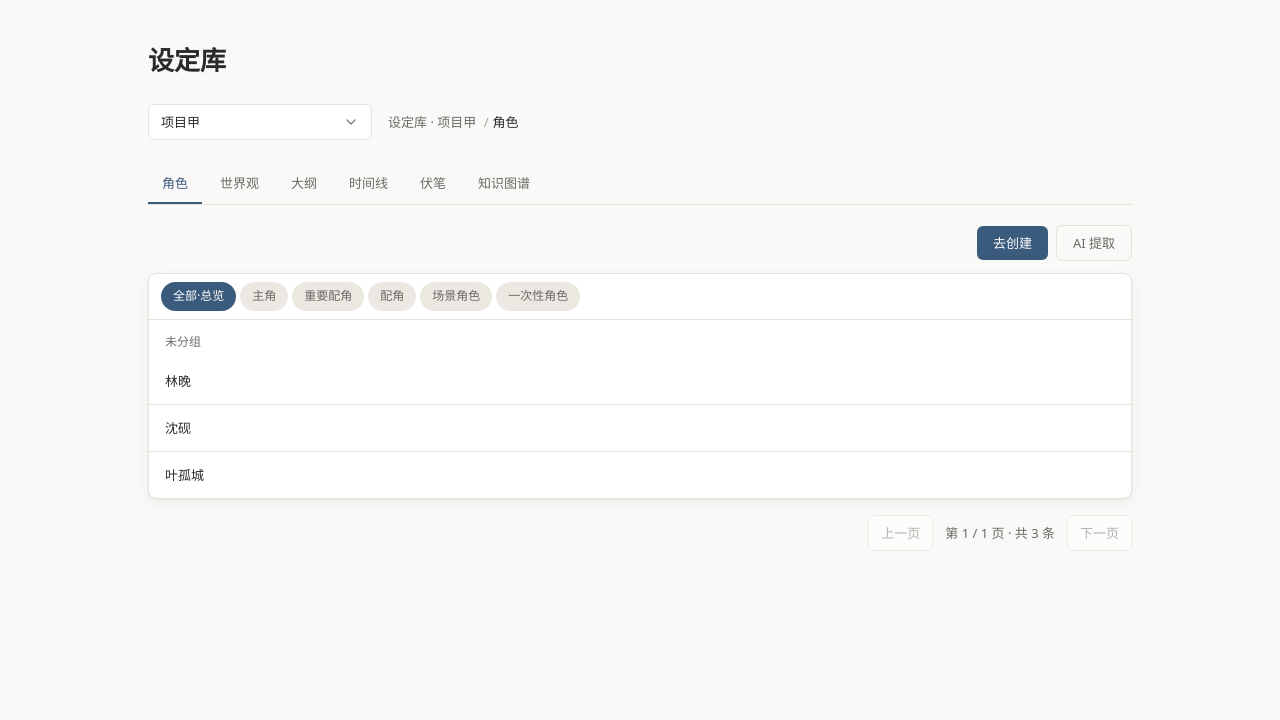
it: #650 角色关系 GUI（T1 关系区契约，角色详情面板内） › 打开详情面板（点角色名）→ 面板渲染（标题=角色名 + 关闭按钮）→ GET /characters/c1/relations 列表含 to_name/relation_type
Expected: the element with test id "library-list" is shown, top-left (148, 273), bottom-right (1132, 499)
Click the button "林晚": (178, 381) top-left (165, 370), bottom-right (1047, 392)
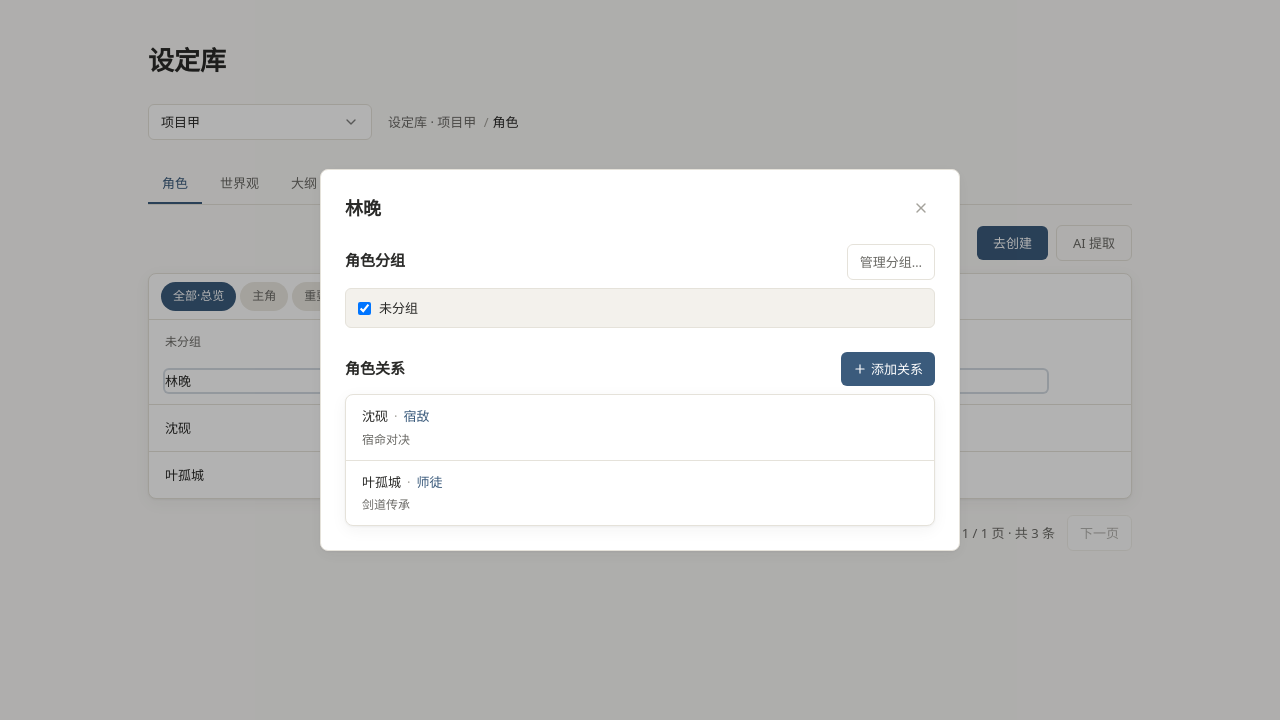
Expected: the dialog with test id "character-detail-panel" shows "林晚", top-left (345, 199), bottom-right (381, 219)
Expected: the button with test id "character-detail-close" is shown, top-left (907, 194), bottom-right (935, 222)
Expected: the text "沈砚" is shown, top-left (362, 408), bottom-right (388, 426)
